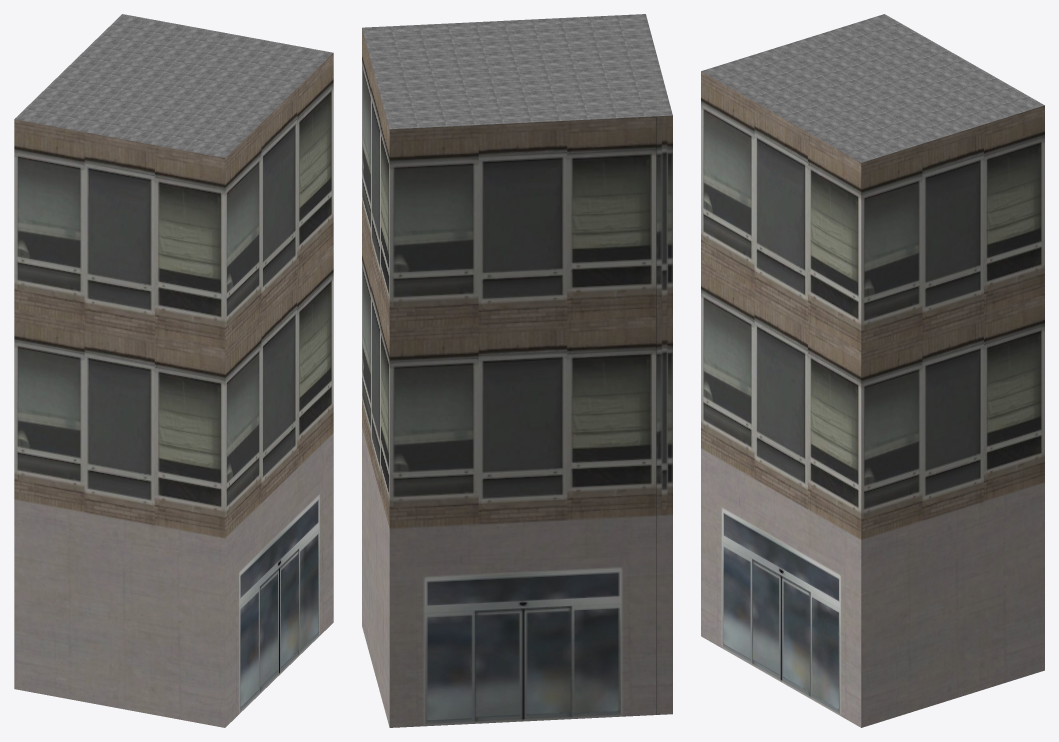
The picture shows the model from 3 angles, left to right: view 1: azimuth 30°, elevation 25°; view 2: azimuth 150°, elevation 25°; view 3: azimuth 270°, elevation 25°; orthographic projection. The views are drawn at different scales.
Parts seen in each view (by area): view 1: BuildingMaster_1979193903424461958000000000_0, BuildingMaster_1979193903424461958000000000_1; view 2: BuildingMaster_1979193903424461958000000000_0, BuildingMaster_1979193903424461958000000000_1; view 3: BuildingMaster_1979193903424461958000000000_0, BuildingMaster_1979193903424461958000000000_1.
Boxes of the visible parts, x1=… form: BuildingMaster_1979193903424461958000000000_0: x1=14, y1=53, x2=333, y2=727; BuildingMaster_1979193903424461958000000000_1: x1=14, y1=14, x2=333, y2=157; BuildingMaster_1979193903424461958000000000_0: x1=362, y1=28, x2=672, y2=727; BuildingMaster_1979193903424461958000000000_1: x1=362, y1=14, x2=672, y2=129; BuildingMaster_1979193903424461958000000000_0: x1=701, y1=71, x2=1044, y2=727; BuildingMaster_1979193903424461958000000000_1: x1=701, y1=14, x2=1044, y2=162.
Size of the model in its own units: 5.93 by 10.5 by 5.79.
2 materials, 2 textured.
